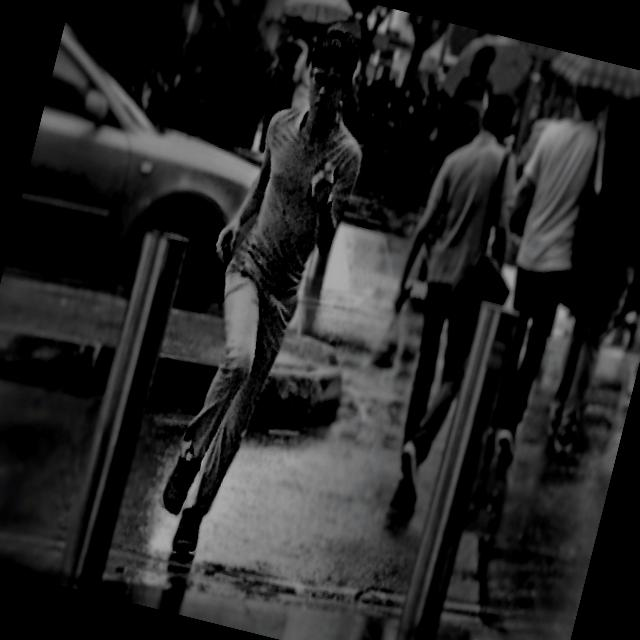Vehicle: (3, 19, 284, 320)
